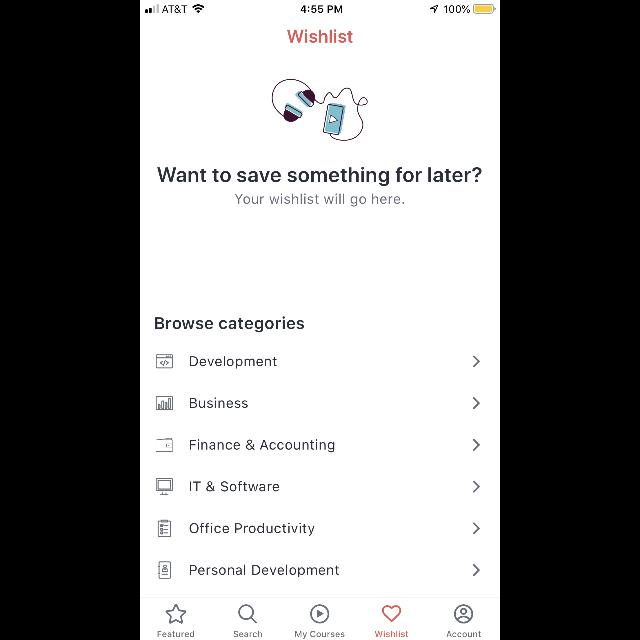icon: (166, 603, 187, 623), (238, 604, 258, 624), (310, 604, 330, 624), (453, 604, 472, 624), (382, 604, 402, 622), (156, 354, 174, 368), (156, 396, 174, 410), (156, 438, 174, 452), (158, 561, 172, 579), (157, 520, 171, 536), (472, 522, 480, 534), (472, 481, 480, 493), (472, 397, 480, 409), (474, 564, 481, 576), (474, 439, 481, 451), (474, 356, 481, 368)
image: (272, 79, 368, 141), (156, 478, 174, 496)
text: (157, 167, 481, 187), (156, 316, 304, 332), (190, 564, 338, 578), (234, 194, 403, 206), (190, 522, 314, 536), (190, 440, 334, 452), (190, 356, 276, 368), (190, 481, 280, 492), (288, 29, 352, 43), (190, 398, 248, 408), (296, 630, 344, 638), (158, 630, 195, 638), (375, 630, 409, 638), (234, 630, 262, 638), (446, 631, 482, 637)
uppertaskbar: (140, 0, 500, 14)
